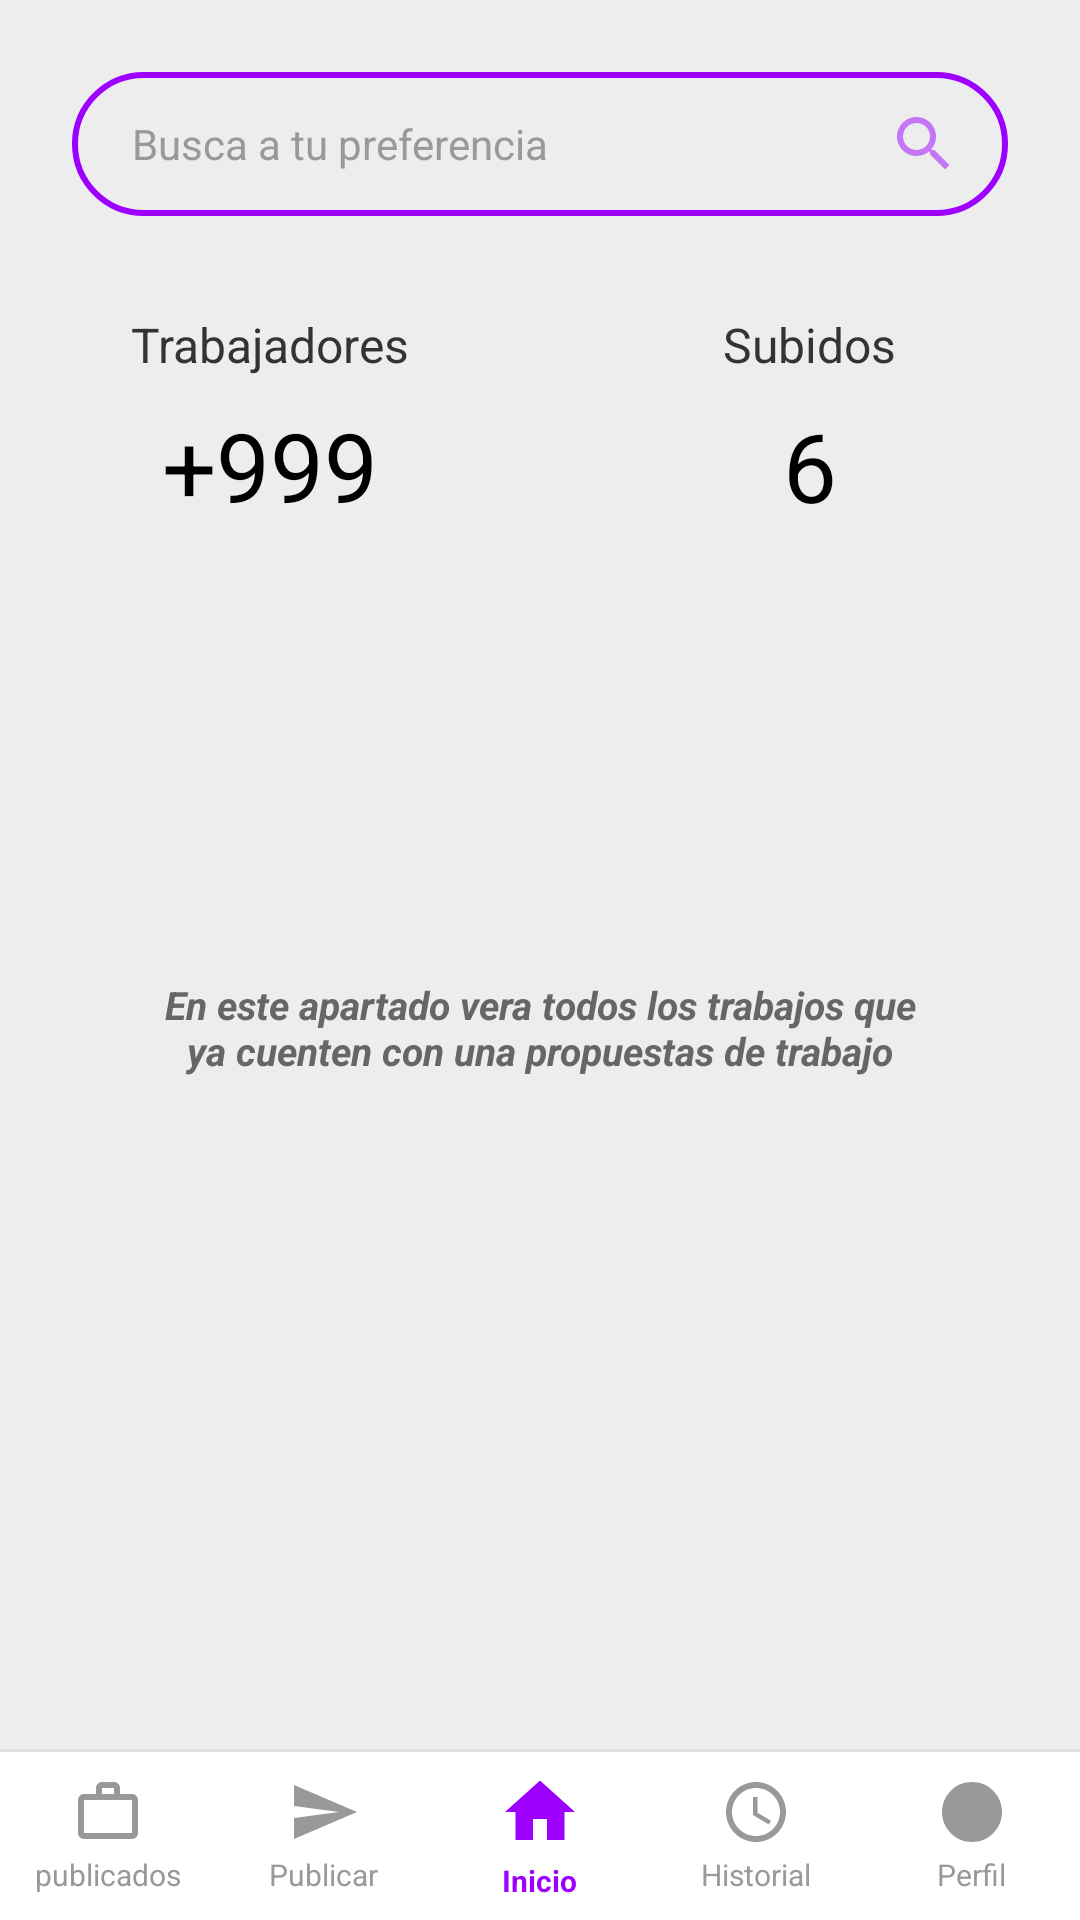

Icons on this 1080 × 1920 Android screen, each with the point to tap as (x,y):
Search: (923,143)
